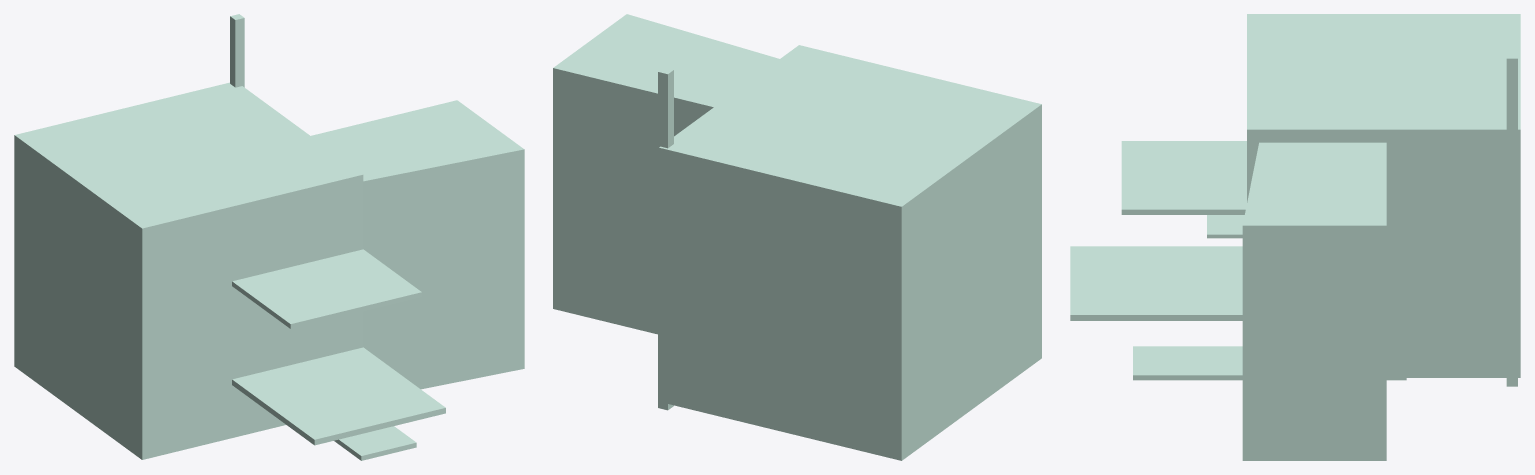
3 views of the same model, side by side, from view 1: azimuth 30°, elevation 25°; view 2: azimuth 150°, elevation 25°; view 3: azimuth 270°, elevation 25° (orthographic). The views are drawn at different scales.
Parts seen in each view (by area): view 1: Renderer Node; view 2: Renderer Node; view 3: Renderer Node.
Boxes of the visible parts, x1,y1,x2,y2 form: Renderer Node: (14, 14, 524, 460); Renderer Node: (553, 14, 1041, 460); Renderer Node: (1070, 14, 1520, 460).
Bounding box in the file's own units: 1.29 × 1.05 × 1.23.
